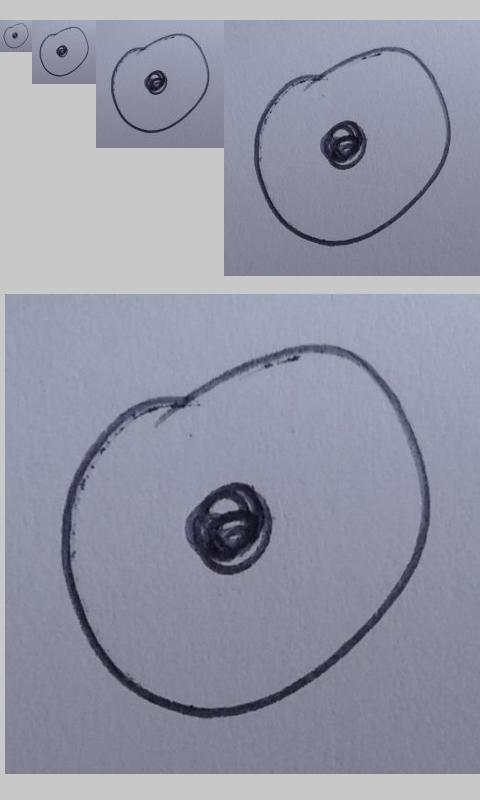radio_button: (57, 339, 432, 722), (252, 45, 452, 248), (110, 32, 210, 134), (38, 26, 89, 77), (2, 22, 30, 49)
